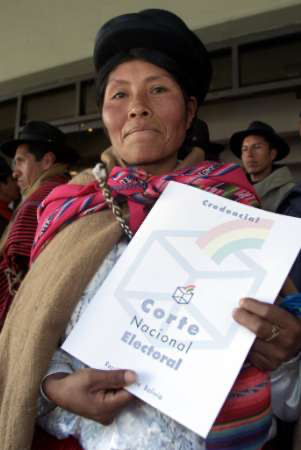Face: (102, 73, 184, 166), (10, 140, 38, 198), (239, 138, 273, 177)
